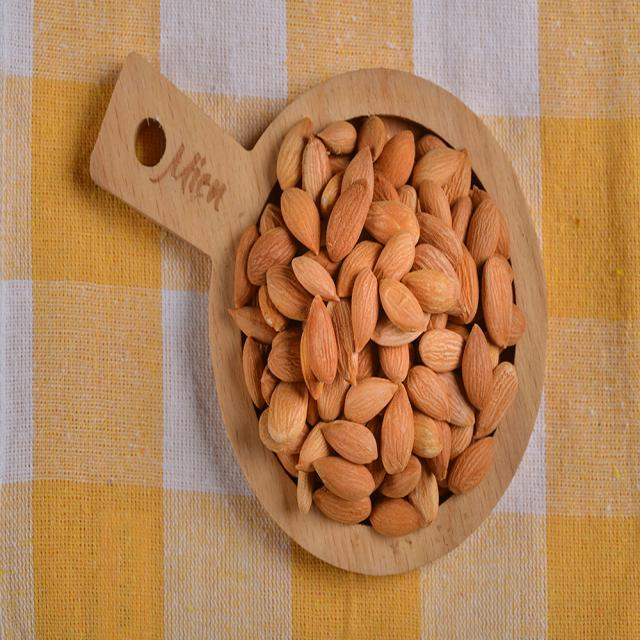cekirdek: (242, 84, 514, 551), (313, 433, 371, 487), (389, 291, 447, 341), (334, 188, 374, 258), (490, 258, 516, 344), (351, 384, 403, 427), (276, 183, 312, 241), (392, 195, 433, 236), (468, 333, 490, 409), (460, 204, 492, 254), (318, 310, 338, 383), (252, 247, 296, 280), (389, 454, 432, 486), (356, 276, 370, 365), (279, 296, 318, 326), (412, 389, 439, 420), (465, 455, 487, 475)
